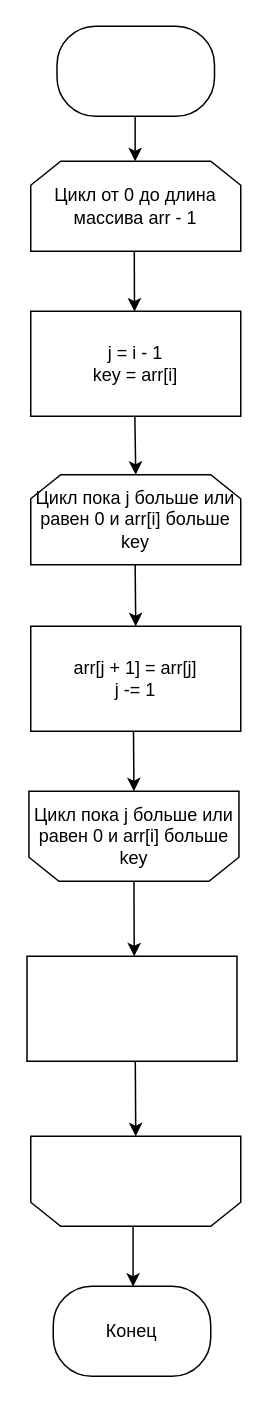
Some shapes in this 267 by 1403 pixel diagram are drawn without their labels. Each missing label, with the box of its shape:
arr[j + 1] = key: (26, 955, 237, 1061)
Начало: (56, 25, 214, 116)
Цикл от 1 до длина массива arr - 1: (29, 1135, 241, 1226)
